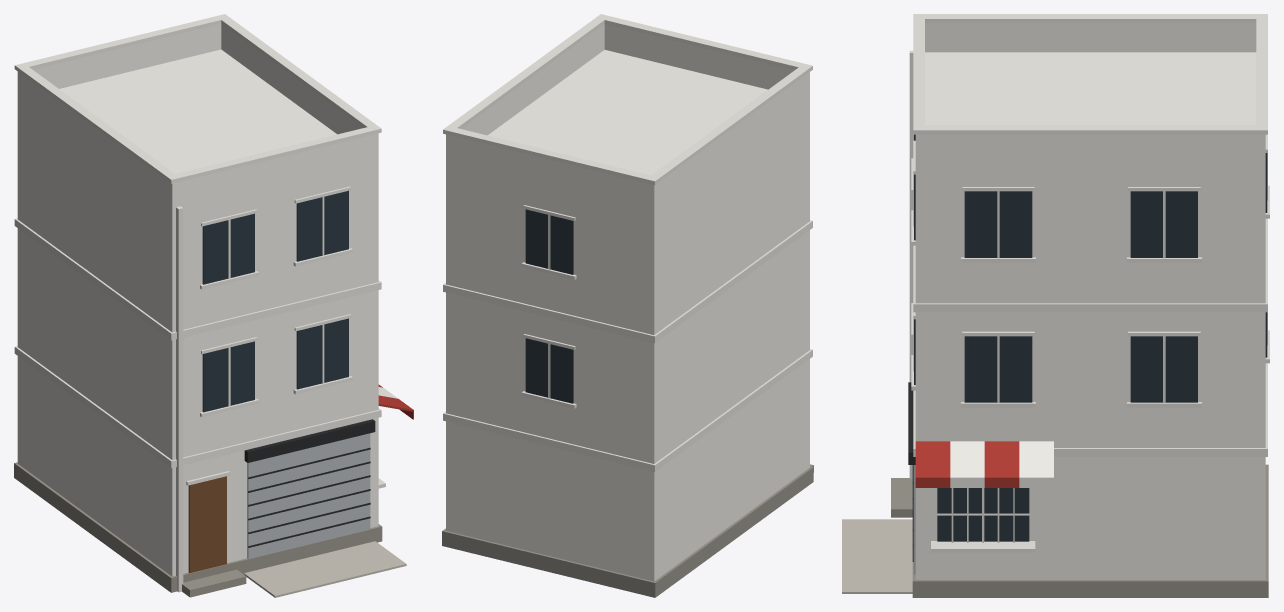
File: BAY_F_Corner_B.glb
The picture shows the model from 3 angles, left to right: view 1: azimuth 30°, elevation 25°; view 2: azimuth 150°, elevation 25°; view 3: azimuth 270°, elevation 25°; orthographic projection. The views are drawn at different scales.
Parts seen in each view (by area): view 1: BAY_F_Corner_B; view 2: BAY_F_Corner_B; view 3: BAY_F_Corner_B.
Boxes of the visible parts, box(x1,y1,x2,y2) form: BAY_F_Corner_B: box(14, 14, 413, 597); BAY_F_Corner_B: box(442, 14, 813, 597); BAY_F_Corner_B: box(842, 14, 1269, 597).
Size of the model in its own units: 5.2 by 8.4 by 6.97.
1 material, 1 textured.
